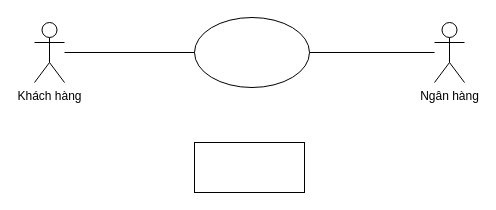
Some shapes in this 496 by 210 pixel diagram are drawn without their labels. The centre of each missing label's shape, as x and y in pixels:
8. Tạo mã rút tiền ATM: pixel 252 52
«entity» Khách hàng: pixel 249 167
